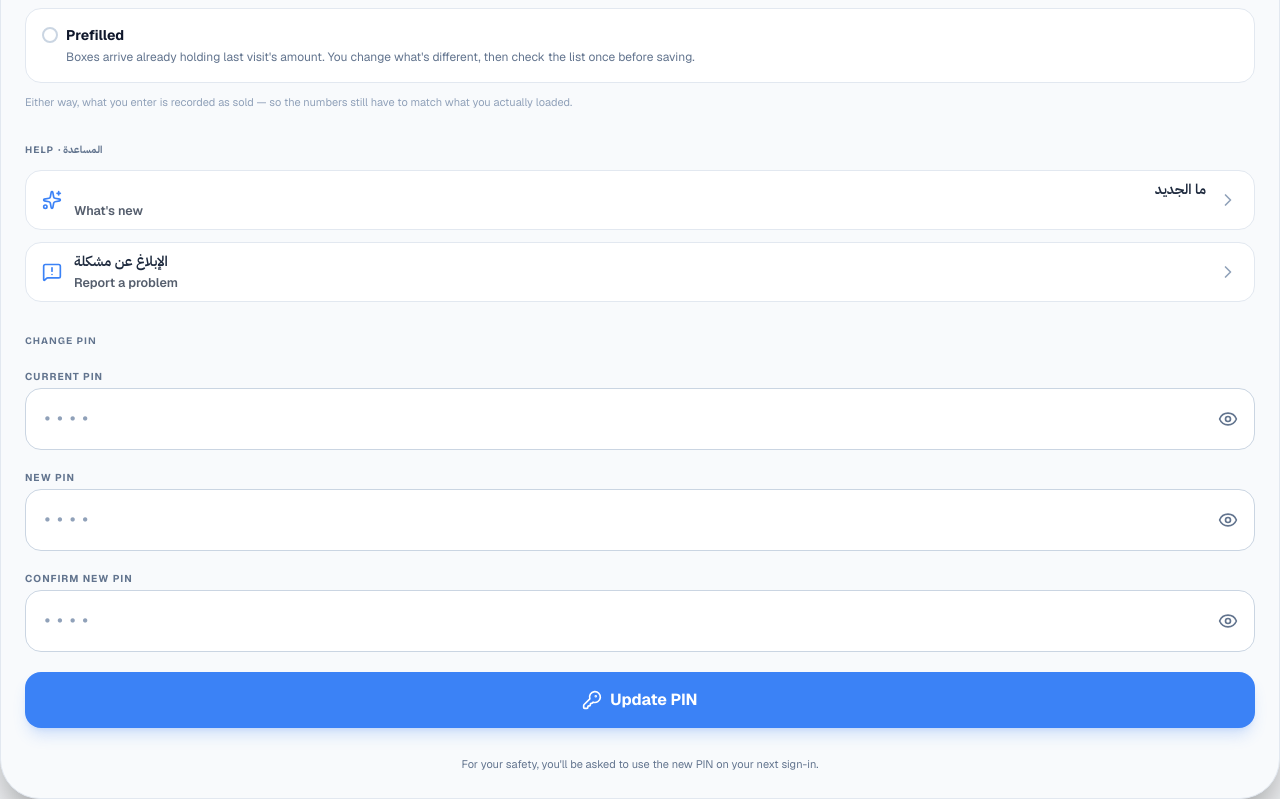
Test case: DriverSettingsForm › strips non-digits from input
(page scrolled)
Type "12ab34" into the password field with placeholder "••••" below "Current PIN" at (614, 419), box x1=26 y1=389 x2=1202 y2=449
(page scrolled)
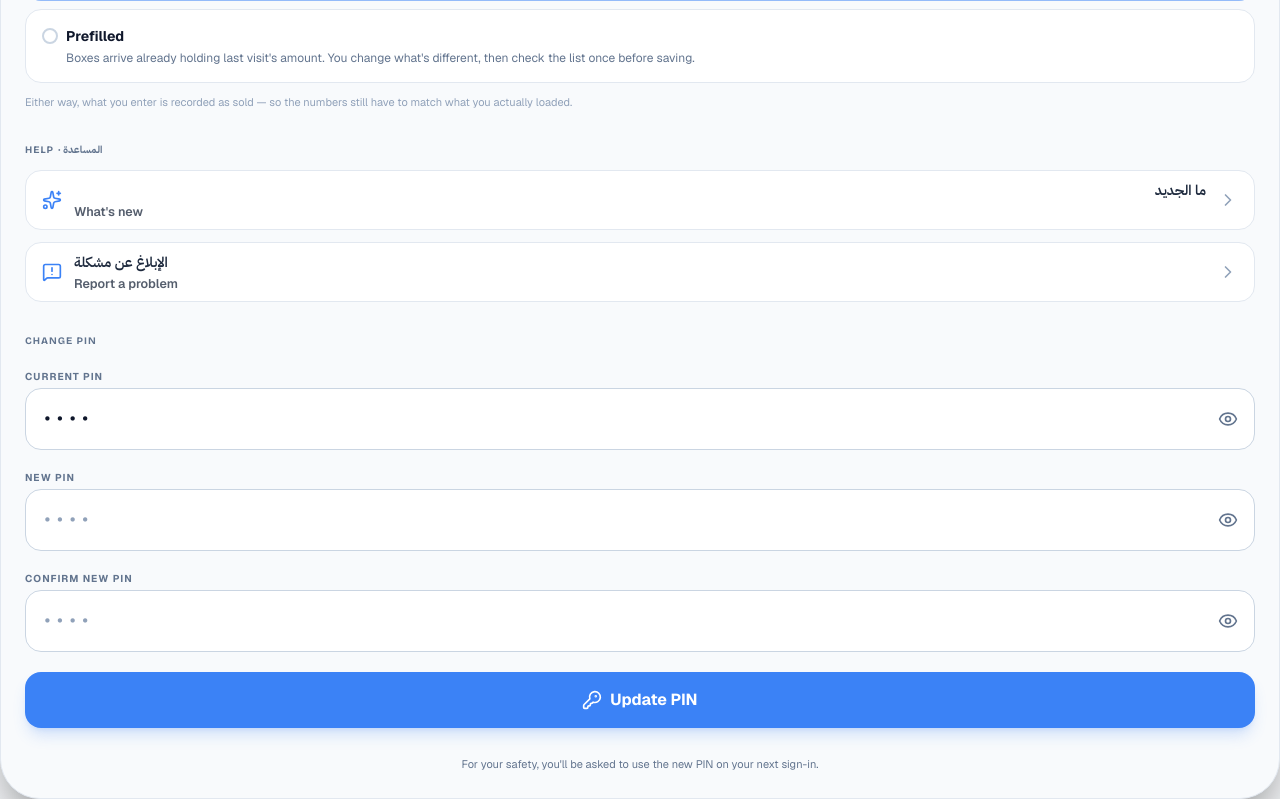
Result: the password field with placeholder "••••" holds "1234" at x1=26 y1=389 x2=1202 y2=449
